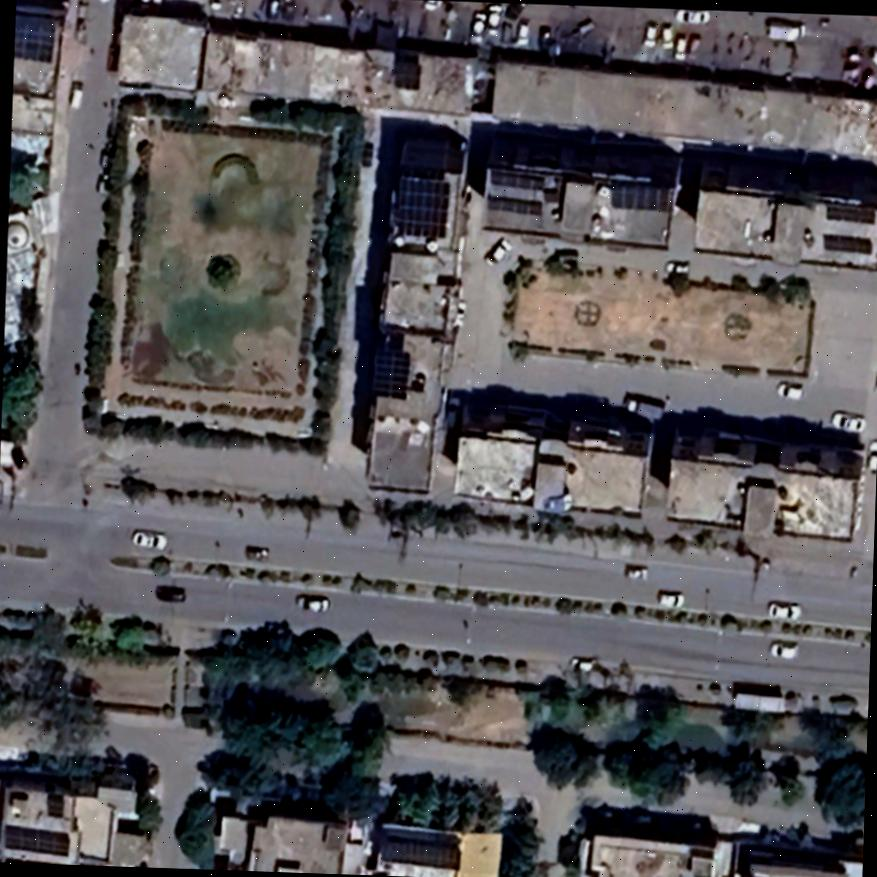Solarpanel: (374, 825, 466, 875), (393, 168, 454, 242), (476, 166, 561, 219), (600, 175, 674, 223), (365, 339, 417, 401), (0, 816, 75, 856), (15, 7, 61, 63), (820, 198, 877, 226), (388, 51, 426, 92), (821, 229, 876, 256)
